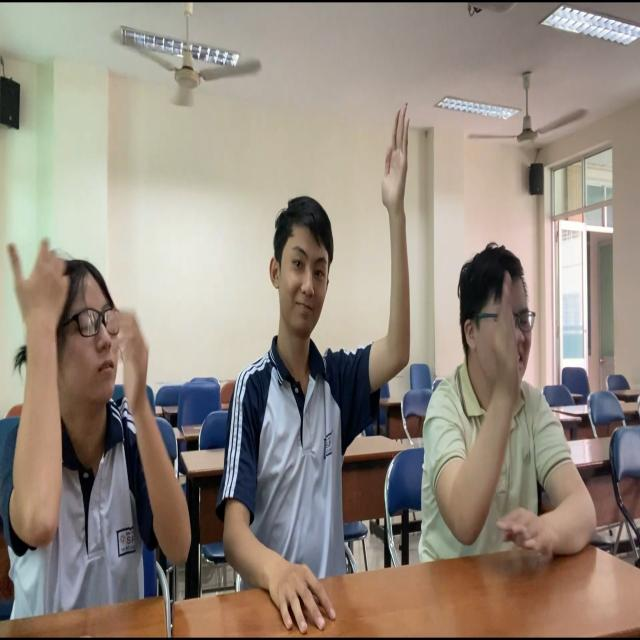raise_hand: (211, 69, 428, 640), (417, 196, 603, 617)
